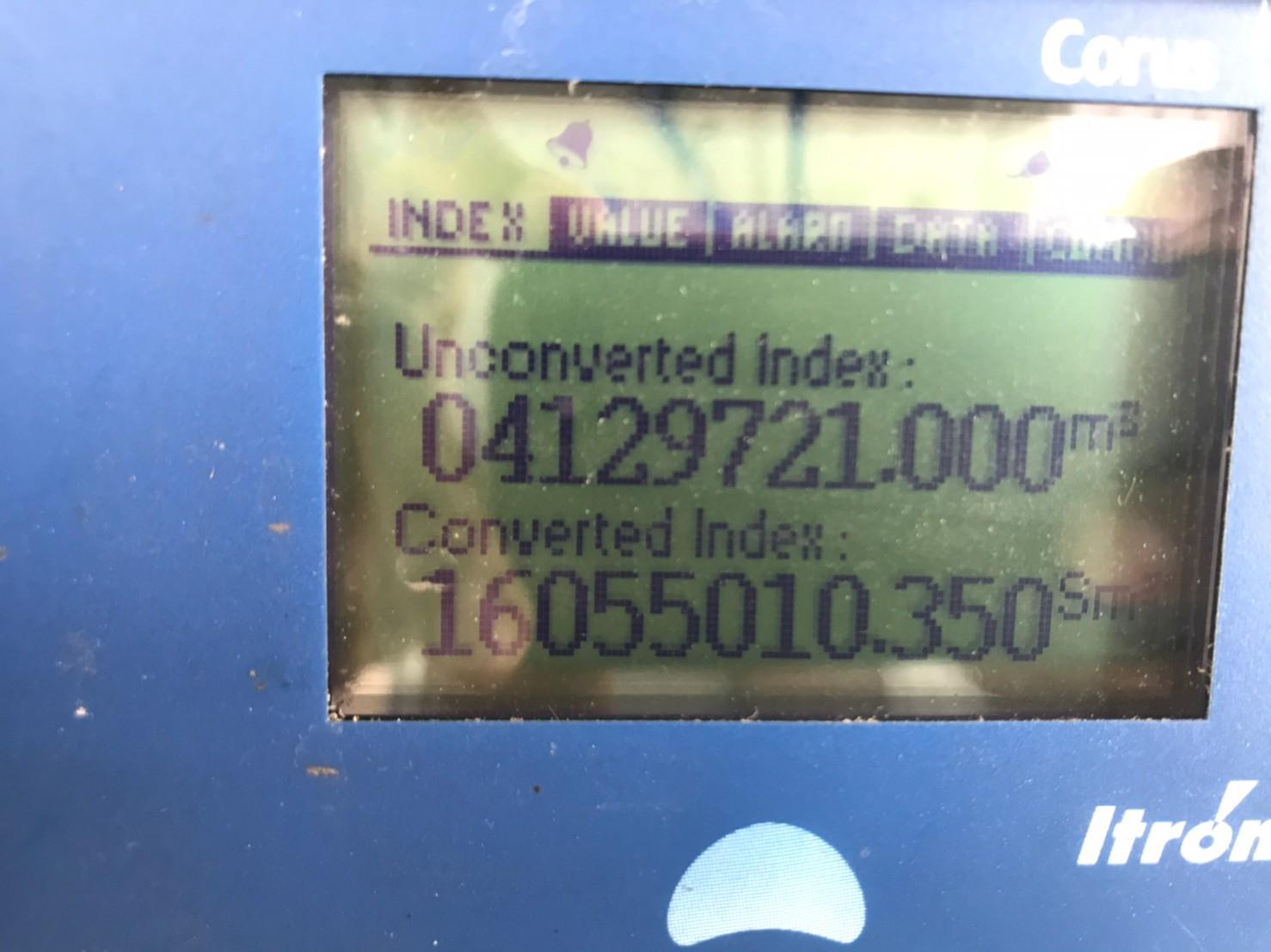digital_screen: (326, 73, 1258, 722)
